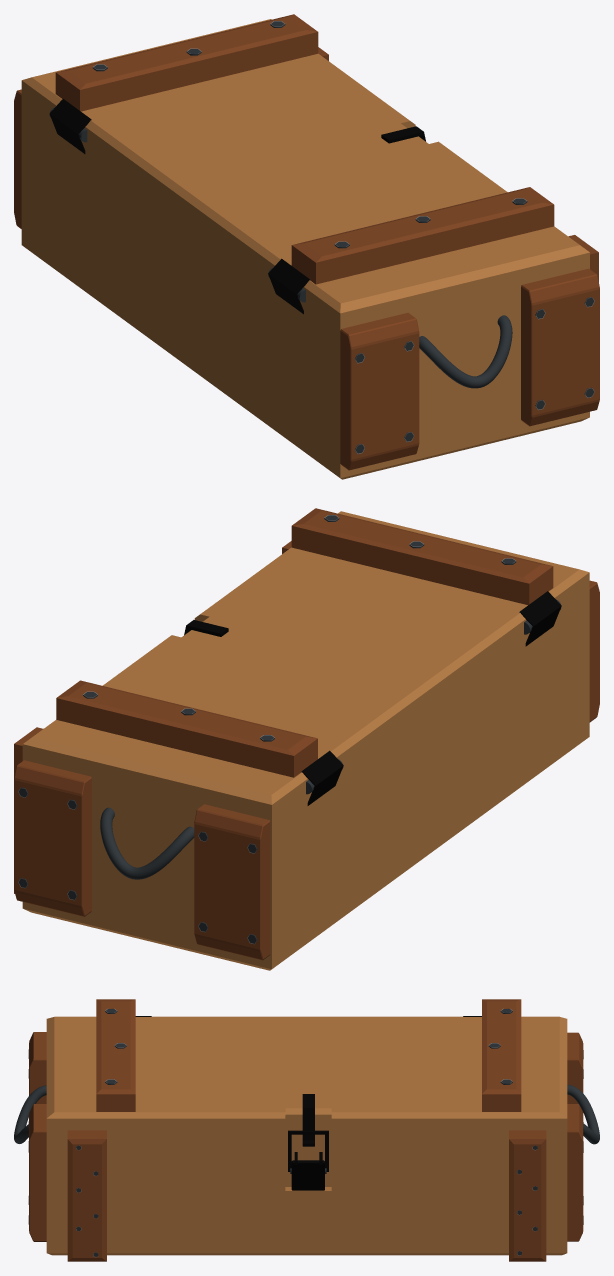
File: LongCrate(Fix).fbx
3 renders of one model, top to bottom at view 1: azimuth 30°, elevation 25°; view 2: azimuth 150°, elevation 25°; view 3: azimuth 270°, elevation 25°, orthographic. The views are drawn at different scales.
Parts seen in each view (by area): view 1: Plane.001; view 2: Plane.001; view 3: Plane.001.
Boxes of the visible parts, box(x1,y1,x2,y2) form: Plane.001: box(14, 14, 599, 479); Plane.001: box(14, 508, 599, 970); Plane.001: box(14, 999, 599, 1261).
Bounding box in the file's own units: 69.72 × 47.34 × 154.
